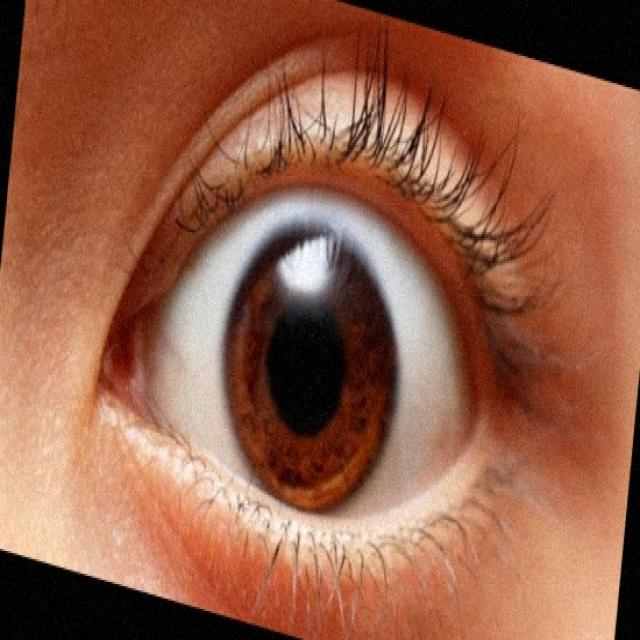Healthy-Eye: (102, 115, 522, 596)
